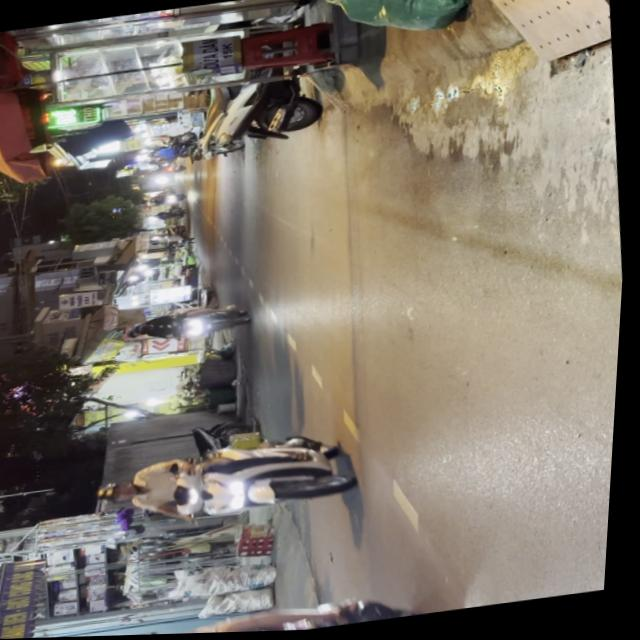helmet: (99, 482, 142, 508)
licenseplate: (92, 428, 366, 538), (61, 584, 460, 638)
